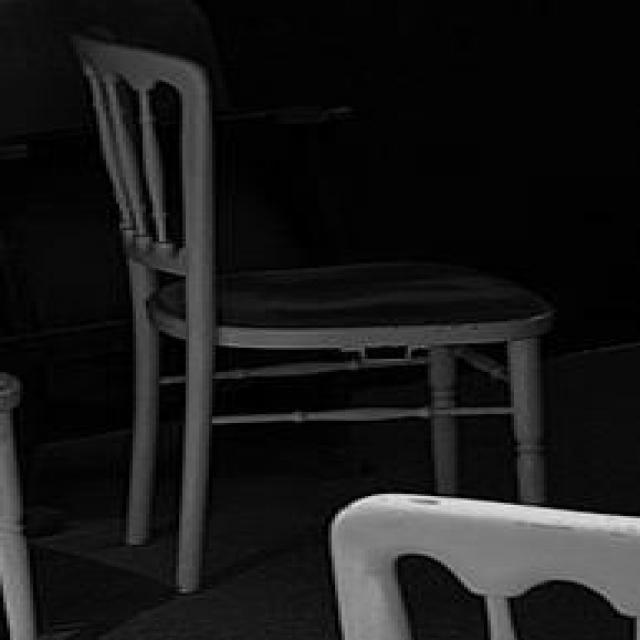chair: (68, 32, 570, 592)
